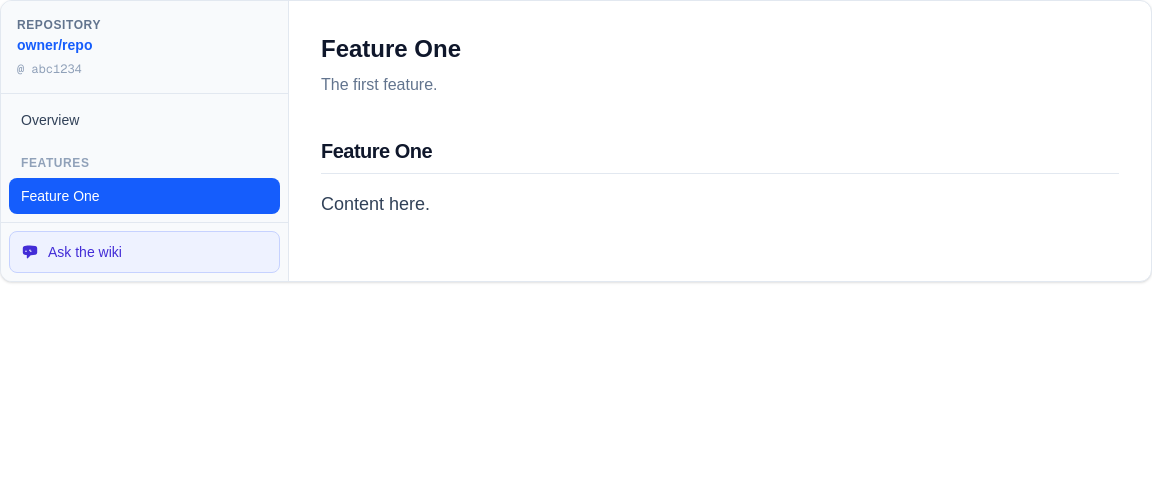
Scenario: WikiViewer Q&A › Ask button is enabled when input has text
Click the button "Ask the wiki". click: (85, 252)
box: [9,231,280,273]
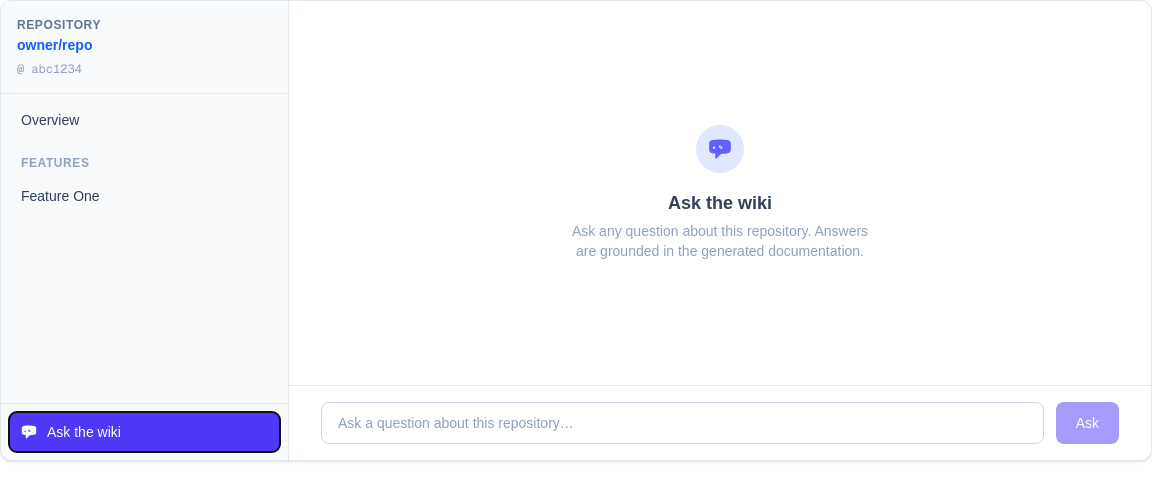
Type "How does auth work?" into the field named "ask a question about this wiki". click: (682, 423)
box: [321,402,1044,444]
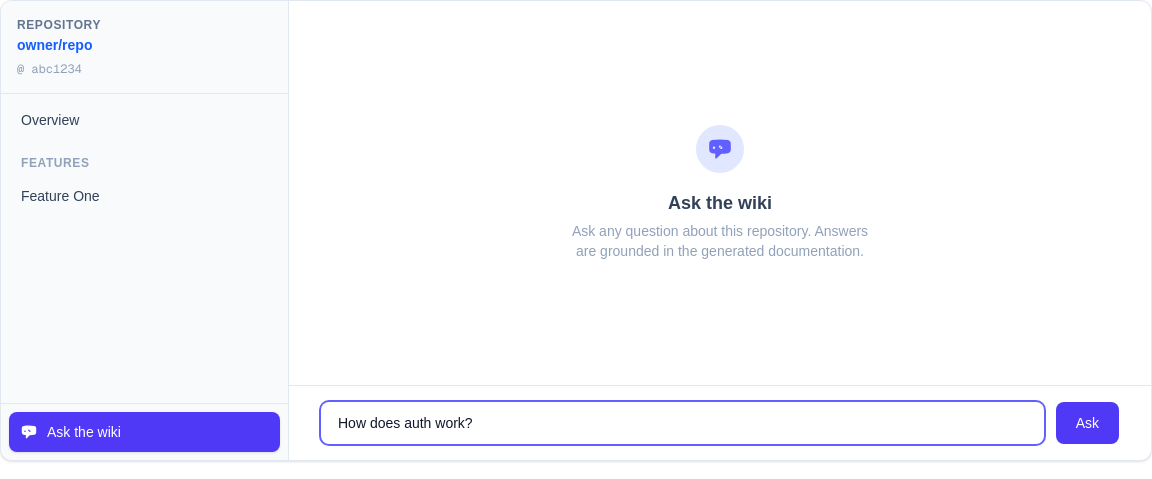
Check: the button with aria-label "ask question" is enabled, box [1056,402,1119,444]
